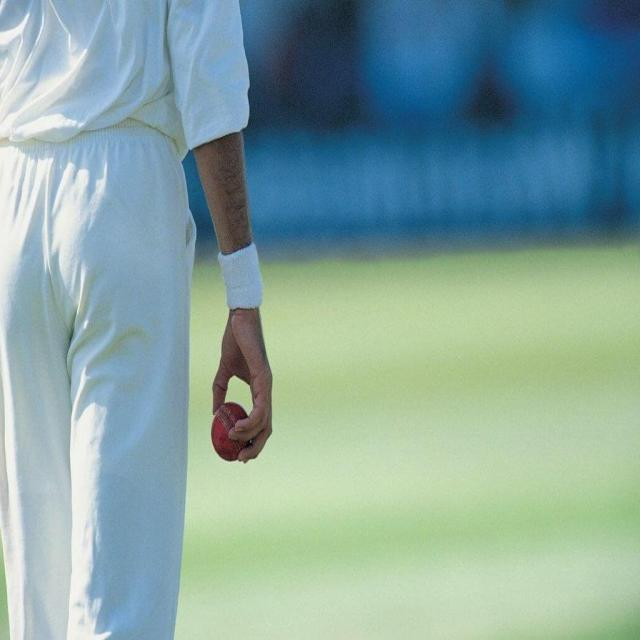ball: (210, 401, 250, 464)
